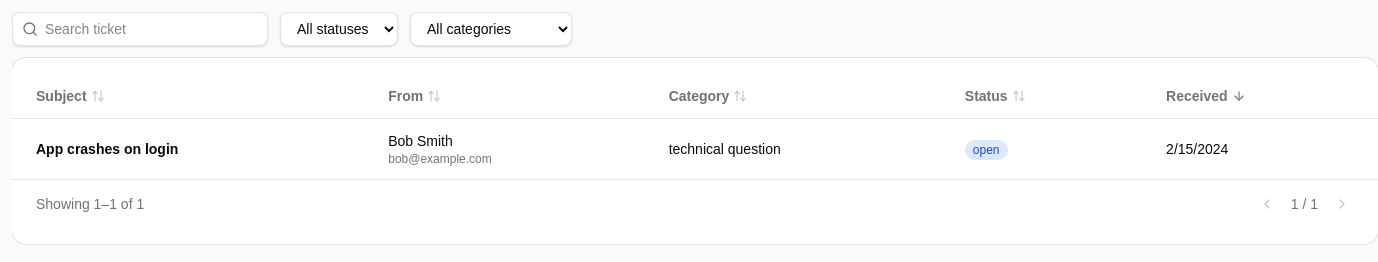
TicketsTable — filters › clicking Clear filters resets both dropdowns to "All"
Check: the text "Bob Smith" is shown, box [388,133,453,149]
Select "Resolved" in the 1st dropdown showing "All statuses" at (339, 29), box [280,12,398,46]
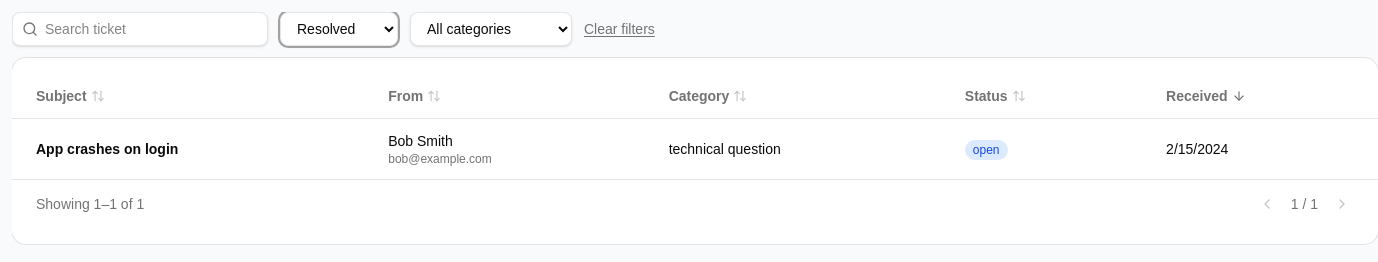
Select "Refund request" in the 2nd dropdown showing "All categories" at (491, 29), box [410,12,572,46]
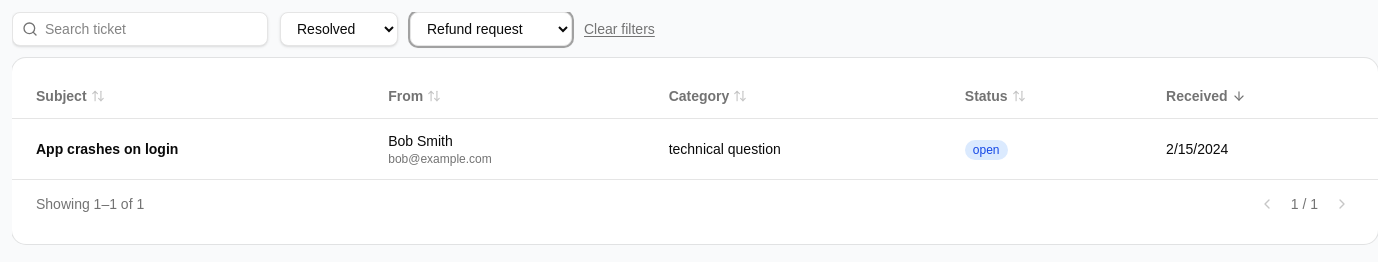
Click the button "Clear filters" at (619, 29), box [584,12,655,46]
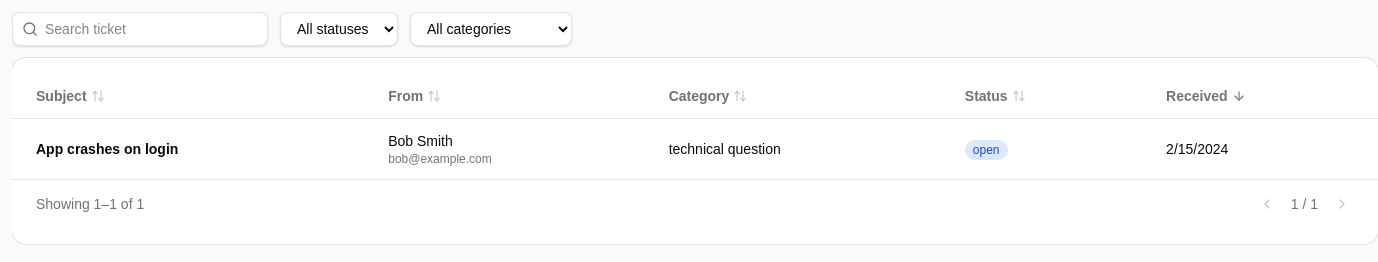
Check: the button "Clear filters" is gone
